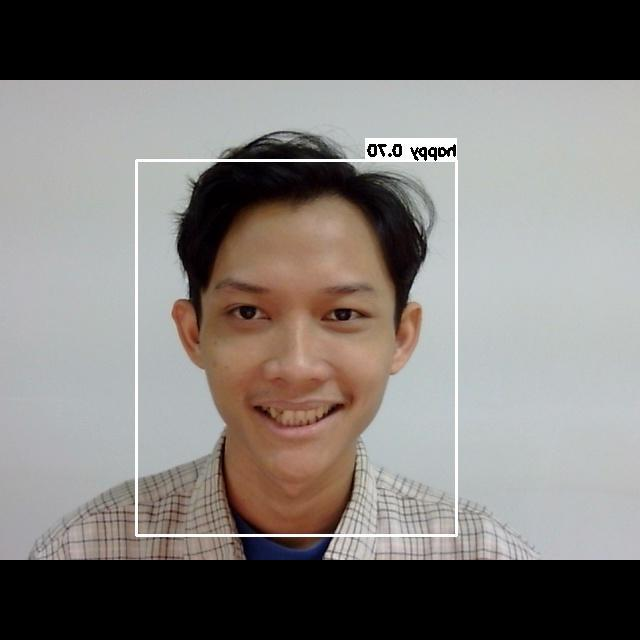Happy: (184, 241, 412, 461)
